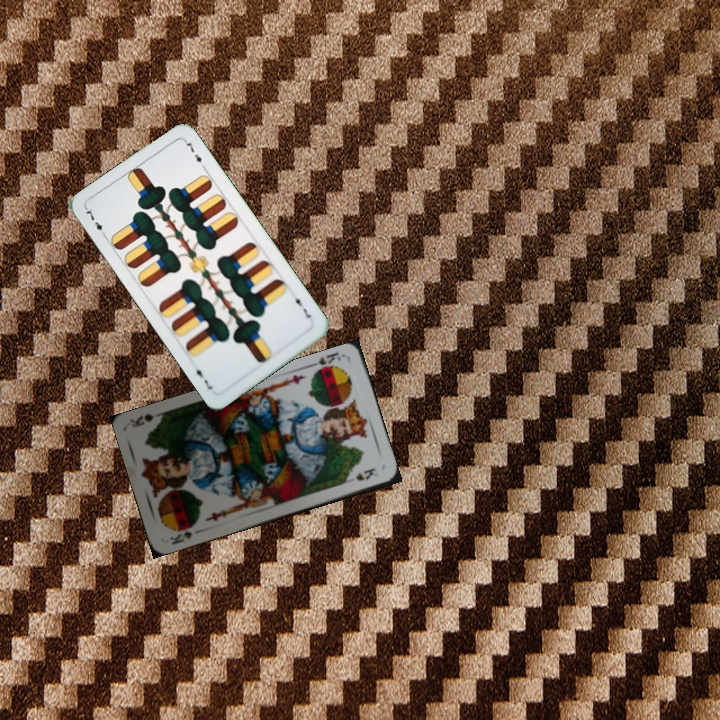E7: (81, 205, 110, 241), (290, 289, 313, 321)
SK: (306, 349, 343, 377), (166, 527, 195, 547)
